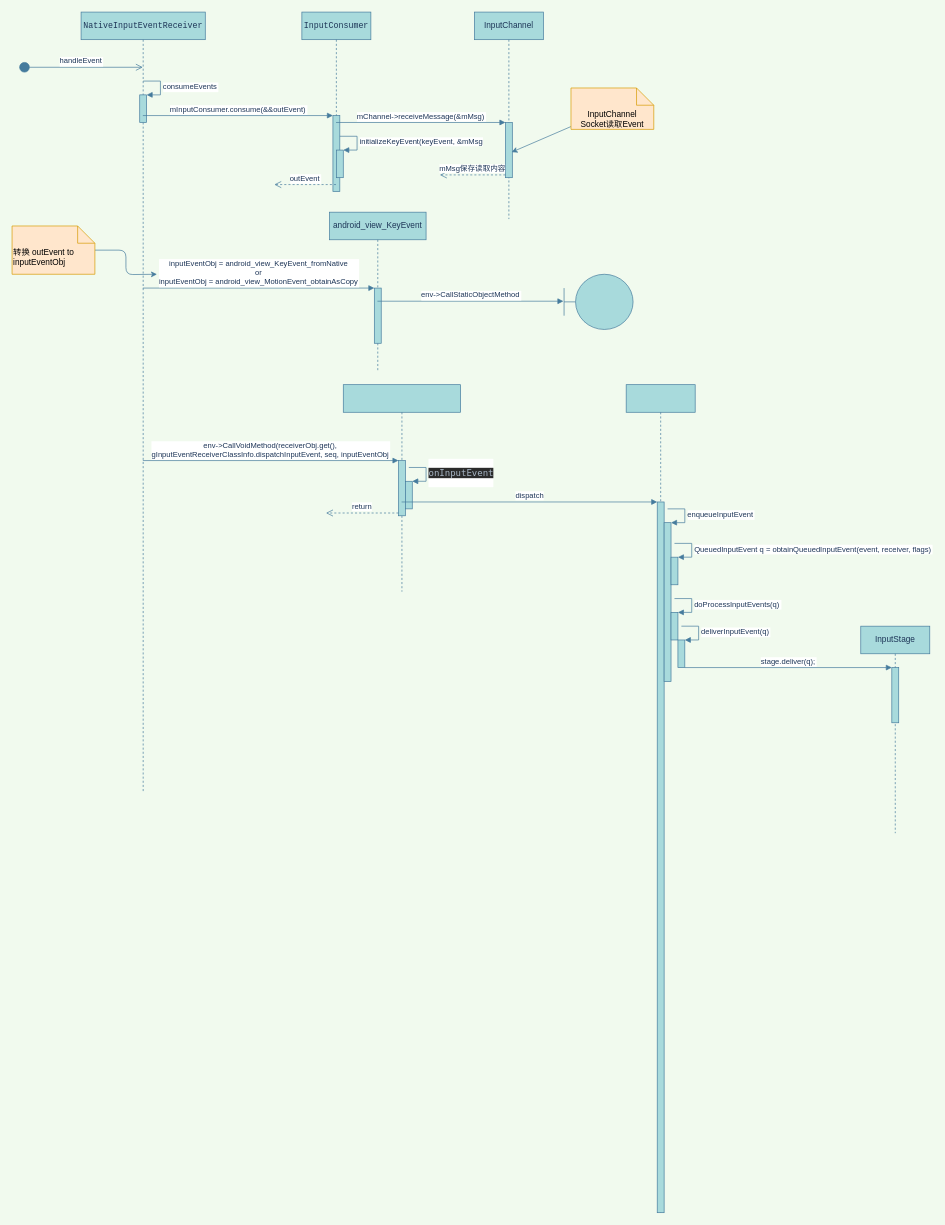
The diagram is 945 pixels wide and 1225 high, and some of its shapes have lost their labels. The box of each missing label's shape, as (x1, y1, x2, y2) in pixels:
InputEventReceiver WindowInputEventReceiver: (343, 384, 461, 592)
Java code 转换Event: (563, 274, 633, 329)
ViewRootImpl.java: (625, 384, 695, 1213)
